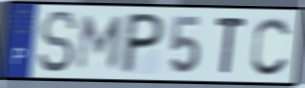5: (169, 14, 205, 75)
C: (249, 15, 293, 78)
M: (74, 13, 127, 72)
P: (117, 11, 168, 76)
S: (37, 9, 80, 75)
T: (214, 15, 249, 77)
